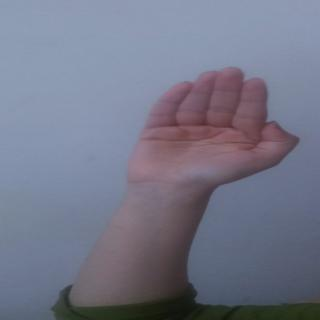SEEN: (128, 63, 302, 189)
